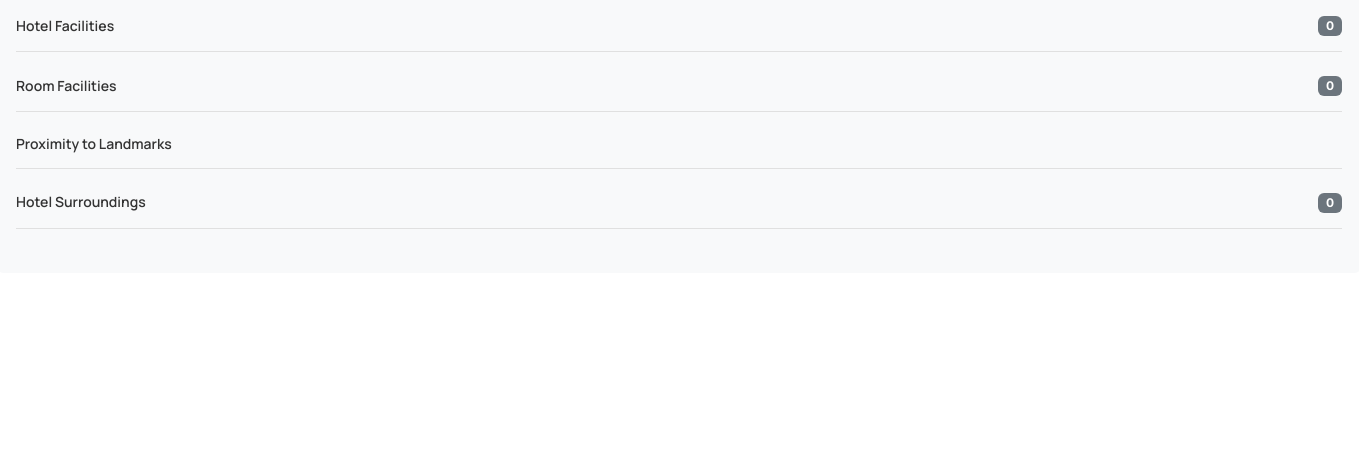
Test: AdvancedFilters › Proximity to Landmarks Section › should expand proximity section when clicked
This screenshot has width=1359, height=457.
Click the heading "Proximity to Landmarks" at coordinates (94, 144), box [16, 136, 172, 153]
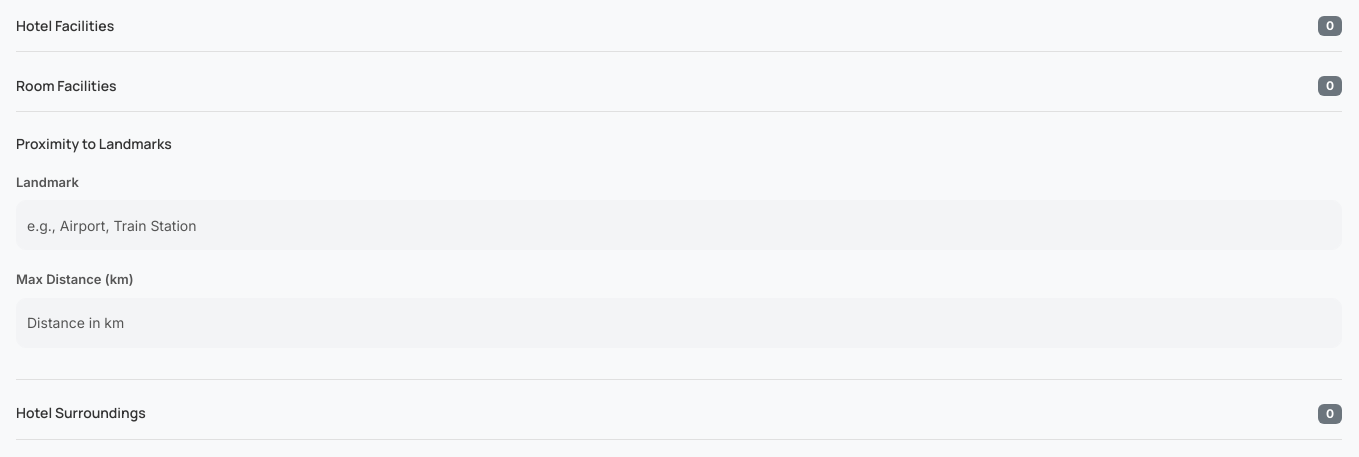
Expected: the field with placeholder "e.g., Airport, Train Station" is shown, [16, 200, 1342, 250]
Expected: the number field with placeholder "Distance in km" is shown, [16, 298, 1342, 348]
